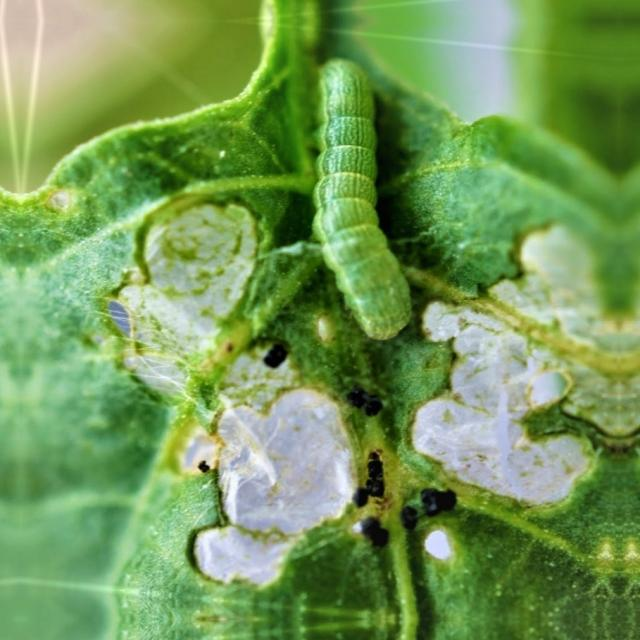armyworm: (309, 56, 413, 341)
